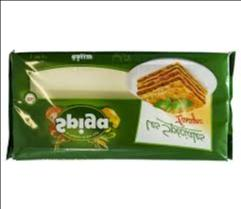lasagne: (11, 51, 231, 158)
